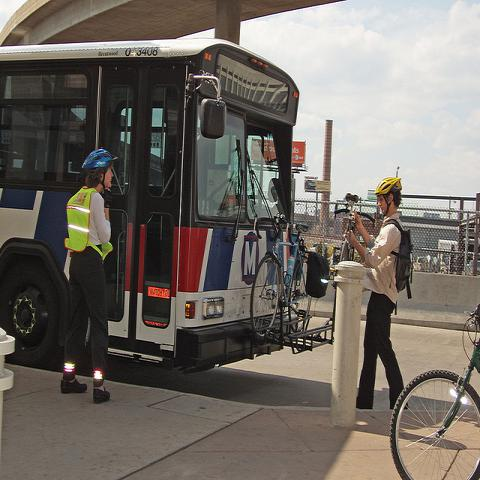bus: (0, 38, 301, 383)
